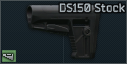KRISS Defiance DS150 stock Black: (0, 0, 127, 64)
